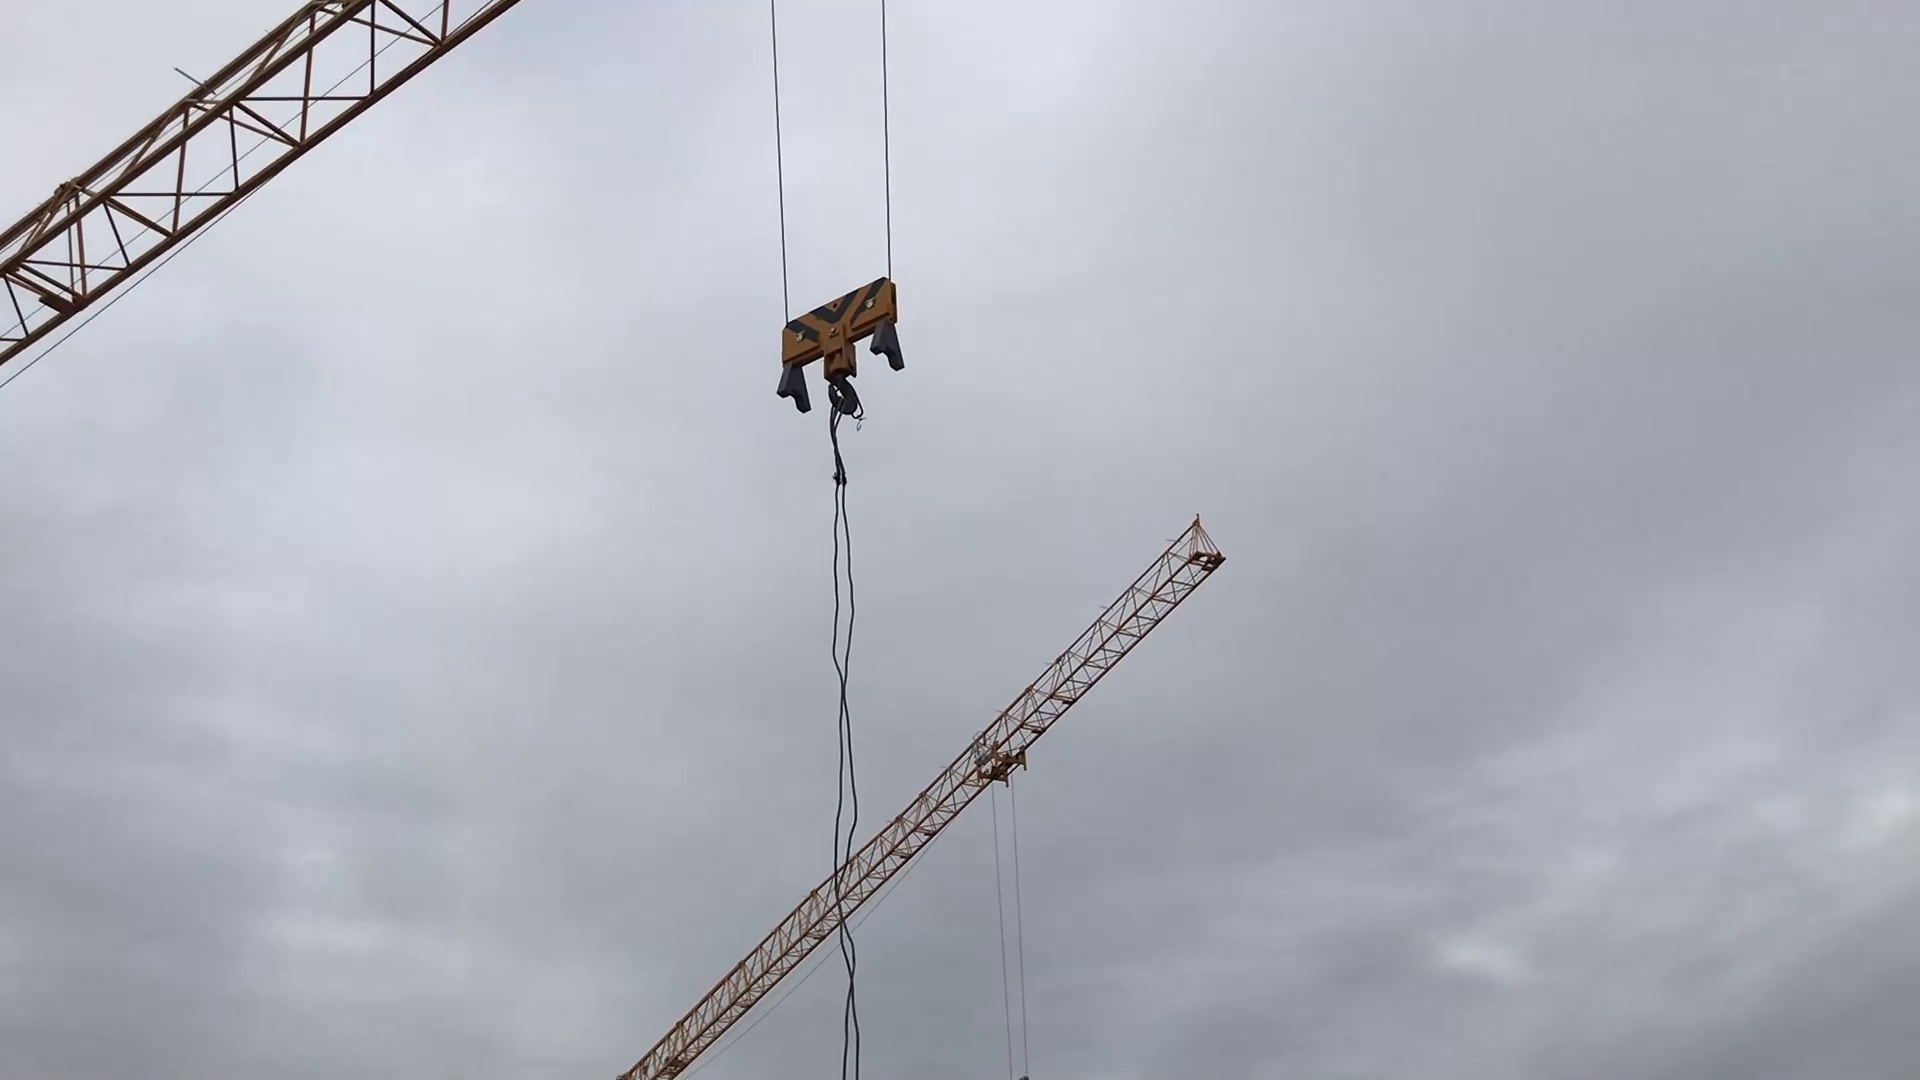hook: (774, 272, 911, 429)
